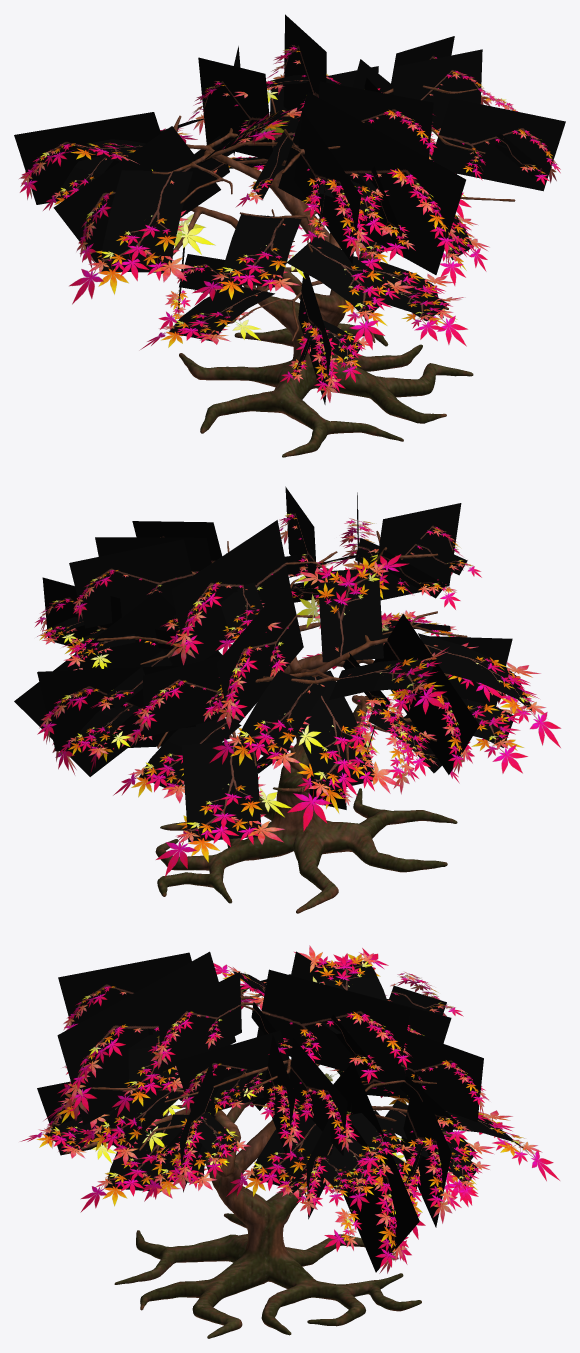
Rendered from magic_tree3.glb.
3 views of the same model, one above another, from view 1: azimuth 30°, elevation 25°; view 2: azimuth 150°, elevation 25°; view 3: azimuth 270°, elevation 25° (orthographic). The views are drawn at different scales.
Parts seen in each view (by area): view 1: Tree, Stick_061, Stick_015, Stick_047, Stick_053, Stick_027, Stick_052, Stick_038, Stick_018, Stick_040, Stick_058, Stick_065 (+15 smaller); view 2: Tree, Stick_030, Stick_037, Stick_032, Stick_056, Stick_012, Stick_052, Stick_053, Stick_057, Stick_039, Stick_018, Stick_046 (+19 smaller); view 3: Tree, Stick_030, Stick_061, Stick_056, Stick_038, Stick_039, Stick_018, Stick_024, Stick_012, Stick_037, Stick_033, Stick_063 (+22 smaller).
Part boxes in pixels (left/top/right/bottom): Tree: left=152, top=85, right=515, bottom=457; Stick_061: left=278, top=92, right=465, bottom=274; Stick_015: left=431, top=98, right=565, bottom=191; Stick_047: left=101, top=170, right=192, bottom=272; Stick_053: left=53, top=126, right=220, bottom=267; Stick_027: left=14, top=112, right=160, bottom=204; Stick_052: left=198, top=57, right=272, bottom=159; Stick_038: left=318, top=81, right=433, bottom=158; Stick_018: left=294, top=112, right=361, bottom=263; Stick_040: left=393, top=49, right=482, bottom=129; Stick_058: left=220, top=214, right=301, bottom=287; Stick_065: left=286, top=236, right=394, bottom=317; Tree: left=96, top=531, right=467, bottom=913; Stick_030: left=172, top=520, right=290, bottom=664; Stick_037: left=69, top=539, right=192, bottom=628; Stick_032: left=182, top=741, right=261, bottom=841; Stick_056: left=14, top=590, right=222, bottom=776; Stick_012: left=37, top=665, right=195, bottom=751; Stick_052: left=216, top=578, right=303, bottom=731; Stick_053: left=373, top=613, right=479, bottom=774; Stick_057: left=317, top=568, right=383, bottom=662; Stick_039: left=143, top=655, right=226, bottom=737; Stick_018: left=377, top=503, right=461, bottom=600; Stick_046: left=297, top=670, right=374, bottom=792; Tree: left=52, top=989, right=455, bottom=1338; Stick_030: left=257, top=969, right=411, bottom=1085; Stick_061: left=57, top=951, right=235, bottom=1125; Stick_056: left=333, top=1061, right=419, bottom=1272; Stick_038: left=158, top=972, right=241, bottom=1072; Stick_039: left=384, top=1031, right=483, bottom=1122; Stick_018: left=58, top=952, right=191, bottom=1025; Stick_024: left=175, top=1030, right=290, bottom=1111; Stick_012: left=400, top=1071, right=451, bottom=1227; Stick_037: left=290, top=1038, right=347, bottom=1155; Stick_033: left=249, top=1105, right=322, bottom=1185; Stick_063: left=98, top=1088, right=180, bottom=1149.
Size of the model in its own units: 2.78 by 1.78 by 2.78.
3 materials, 3 textured.
